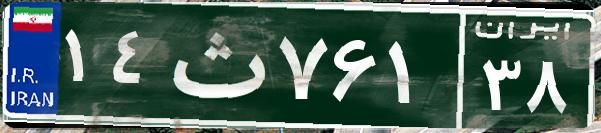1: (385, 28, 445, 110), (57, 26, 110, 107)
3: (475, 38, 525, 113)
4: (110, 28, 158, 105)
6: (330, 28, 385, 110)
7: (273, 28, 330, 110)
8: (525, 38, 570, 115)
ث: (158, 15, 273, 115)
